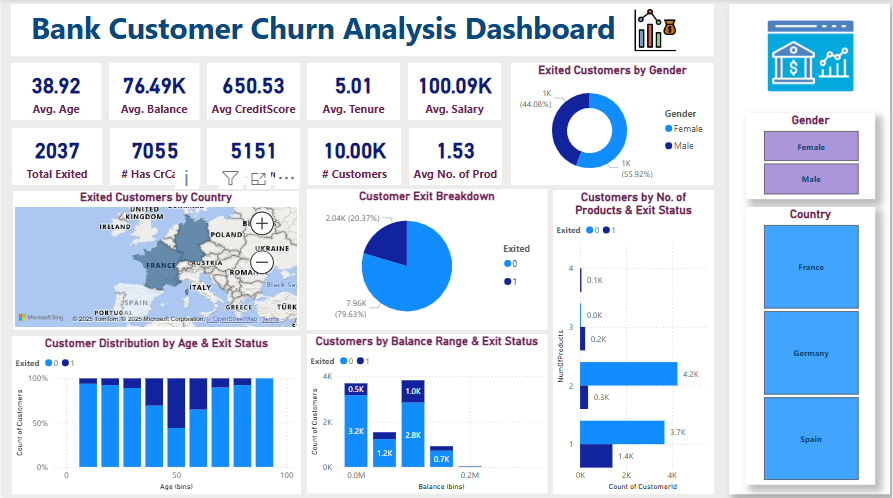

The page's visual inventory and layout, read from the dashboard file:
{"tool":"powerbi","page":{"name":"Page 1","canvas":[1280,720],"ordinal":0},"visuals":[{"type":"shape","box":[1044,7.2,231.8,705.6],"z":0},{"type":"textbox","box":[10.1,7.2,1012.3,74.9],"z":1000},{"type":"image","box":[853.9,7.2,168.5,74.9],"z":2000},{"type":"card","fields":{"Values":["Avg(Churn_Modelling.Age)"]},"box":[10.1,92.2,129.6,82.1],"z":3000},{"type":"card","fields":{"Values":["Avg(Churn_Modelling.Balance)"]},"box":[150.8,92.2,129.6,82.1],"z":4000},{"type":"card","fields":{"Values":["Avg(Churn_Modelling.CreditScore)"]},"box":[291.6,92.2,133.9,82.1],"z":5000},{"type":"card","fields":{"Values":["Avg(Churn_Modelling.Tenure)"]},"box":[436.7,92.2,133.9,82.1],"z":6000},{"type":"card","fields":{"Values":["Avg(Churn_Modelling.EstimatedSalary)"]},"box":[581.8,92.2,133.9,82.1],"z":7000},{"type":"card","fields":{"Values":["Sum(Churn_Modelling.Exited)"]},"box":[11.4,185.7,129.6,82.1],"z":8000},{"type":"card","fields":{"Values":["Sum(Churn_Modelling.HasCrCard)"]},"box":[152.2,185.7,129.6,82.1],"z":9000},{"type":"card","fields":{"Values":["Sum(Churn_Modelling.IsActiveMember)"]},"box":[293,185.7,133.9,82.1],"z":10000},{"type":"card","fields":{"Values":["CountNonNull(Churn_Modelling.CustomerId)"]},"box":[438,185.7,133.9,82.1],"z":11000},{"type":"card","fields":{"Values":["Avg(Churn_Modelling.NumOfProducts)"]},"box":[583.1,185.7,133.9,82.1],"z":12000},{"type":"slicer","title":"Gender","fields":{"Values":["Churn_Modelling.Gender"]},"box":[1068.5,164.2,185.8,123.8],"z":13000},{"type":"slicer","title":"Country","fields":{"Values":["Churn_Modelling.Geography"]},"box":[1068.5,299.5,185.8,400.3],"z":14000},{"type":"donutChart","title":"Exited Customers by Gender","fields":{"Category":["Churn_Modelling.Gender"],"Y":["Sum(Churn_Modelling.Exited)"]},"box":[730.1,92.2,292.3,175.7],"z":15000},{"type":"filledMap","title":"Exited Customers by Country","fields":{"Category":["Churn_Modelling.Geography"]},"box":[11.5,275,414.7,203],"z":16000},{"type":"hundredPercentStackedColumnChart","title":"Customer Distribution by Age & Exit Status","fields":{"Category":["Churn_Modelling.Age (bins)"],"Y":["CountNonNull(Churn_Modelling.CustomerId)"],"Series":["Churn_Modelling.Exited"]},"box":[11.5,485.3,416.2,227.5],"z":17000},{"type":"clusteredBarChart","title":"Customers by No. of Products & Exit Status","fields":{"Category":["Churn_Modelling.NumOfProducts"],"Y":["CountNonNull(Churn_Modelling.CustomerId)"],"Series":["Churn_Modelling.Exited"]},"box":[790.6,275,231.8,437.8],"z":18000},{"type":"pieChart","title":"Customer Exit Breakdown","fields":{"Y":["CountNonNull(Churn_Modelling.CustomerId)"],"Category":["Churn_Modelling.Exited"]},"box":[436.3,273.6,345.6,203],"z":19000},{"type":"columnChart","title":"Customers by Balance Range & Exit Status","fields":{"Category":["Churn_Modelling.Balance (bins)"],"Y":["CountNonNull(Churn_Modelling.CustomerId)"],"Series":["Churn_Modelling.Exited"]},"box":[436.3,482.4,345.6,230.4],"z":20000},{"type":"image","box":[1065.6,0,191.5,164.2],"z":20001}]}

Visuals, with their boxes in screenshot pixels (x1, y1, x2, y2), scaled from the page's 1280x720 canvas onto the 893x498 screenshot:
shape: <box>728,5,890,493</box>
textbox: <box>7,5,713,57</box>
image: <box>596,5,713,57</box>
card - Avg(Churn_Modelling.Age): <box>7,64,97,121</box>
card - Avg(Churn_Modelling.Balance): <box>105,64,196,121</box>
card - Avg(Churn_Modelling.CreditScore): <box>203,64,297,121</box>
card - Avg(Churn_Modelling.Tenure): <box>305,64,398,121</box>
card - Avg(Churn_Modelling.EstimatedSalary): <box>406,64,499,121</box>
card - Sum(Churn_Modelling.Exited): <box>8,128,98,185</box>
card - Sum(Churn_Modelling.HasCrCard): <box>106,128,197,185</box>
card - Sum(Churn_Modelling.IsActiveMember): <box>204,128,298,185</box>
card - CountNonNull(Churn_Modelling.CustomerId): <box>306,128,399,185</box>
card - Avg(Churn_Modelling.NumOfProducts): <box>407,128,500,185</box>
"Gender" slicer: <box>745,114,875,199</box>
"Country" slicer: <box>745,207,875,484</box>
"Exited Customers by Gender" donutChart: <box>509,64,713,185</box>
"Exited Customers by Country" filledMap: <box>8,190,297,331</box>
"Customer Distribution by Age & Exit Status" hundredPercentStackedColumnChart: <box>8,336,298,493</box>
"Customers by No. of Products & Exit Status" clusteredBarChart: <box>552,190,713,493</box>
"Customer Exit Breakdown" pieChart: <box>304,189,545,330</box>
"Customers by Balance Range & Exit Status" columnChart: <box>304,334,545,493</box>
image: <box>743,0,877,114</box>
